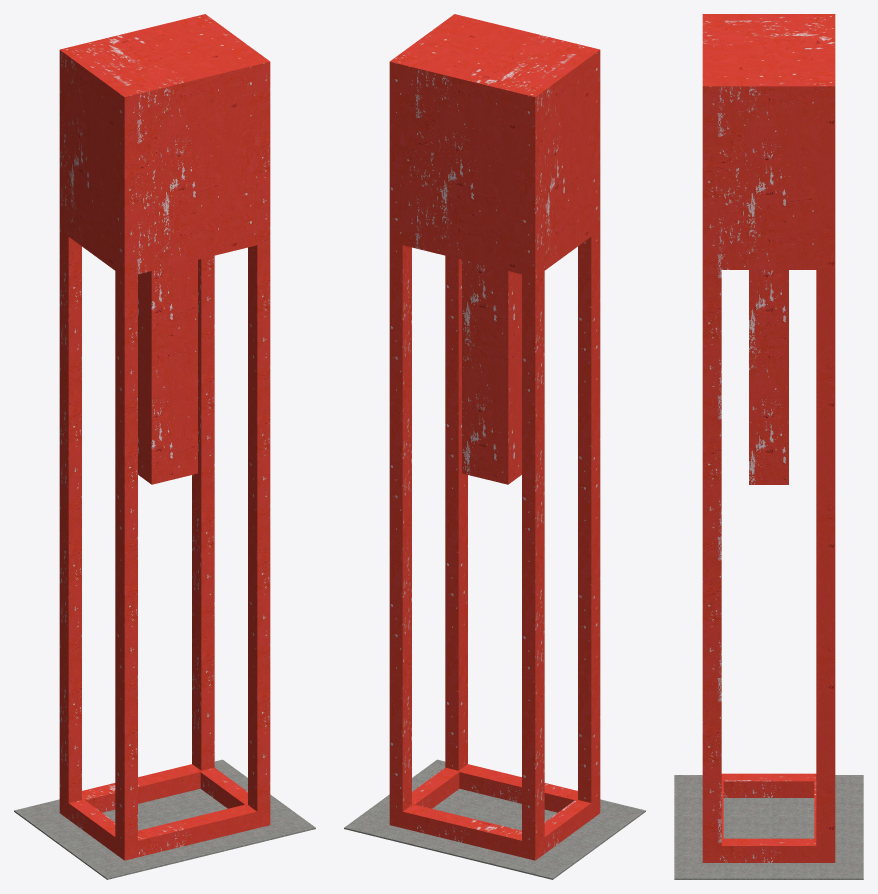
The model's file is preview.glb.
3 views of the same model, side by side, from view 1: azimuth 30°, elevation 25°; view 2: azimuth 150°, elevation 25°; view 3: azimuth 270°, elevation 25° (orthographic).
Parts seen in each view (by area): view 1: Material2 (×2); view 2: Material2 (×2); view 3: Material2 (×2).
Part boxes in pixels (bbox=[...]): Material2 (×2): bbox=[14, 14, 315, 879]; Material2 (×2): bbox=[344, 14, 645, 879]; Material2 (×2): bbox=[674, 14, 863, 879].
Size of the model in its own units: 61.93 by 217 by 47.85.
2 materials, 2 textured.
